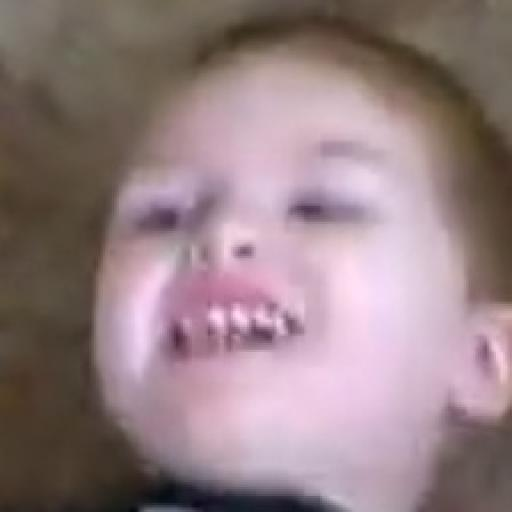Autism: (61, 23, 512, 510)
